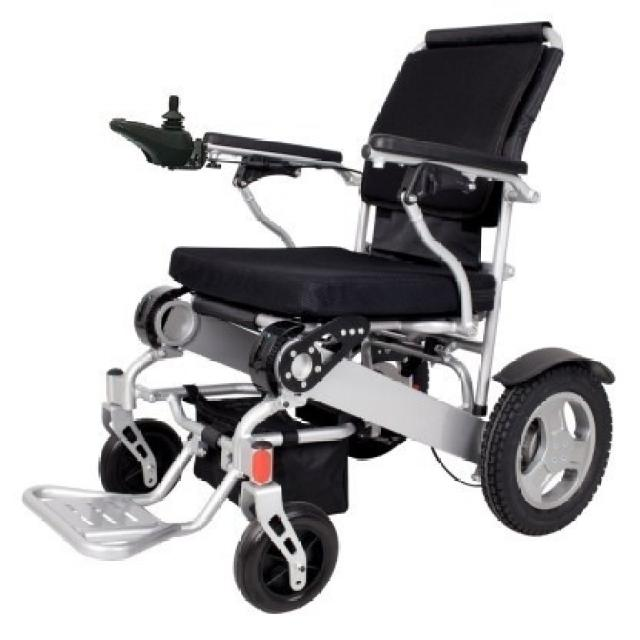wheelchair: (16, 18, 640, 616)
